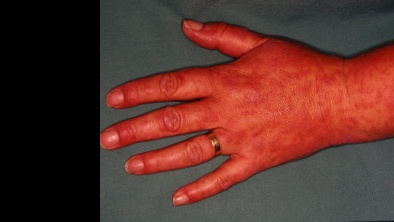SJS-TEN: (208, 35, 394, 176)
